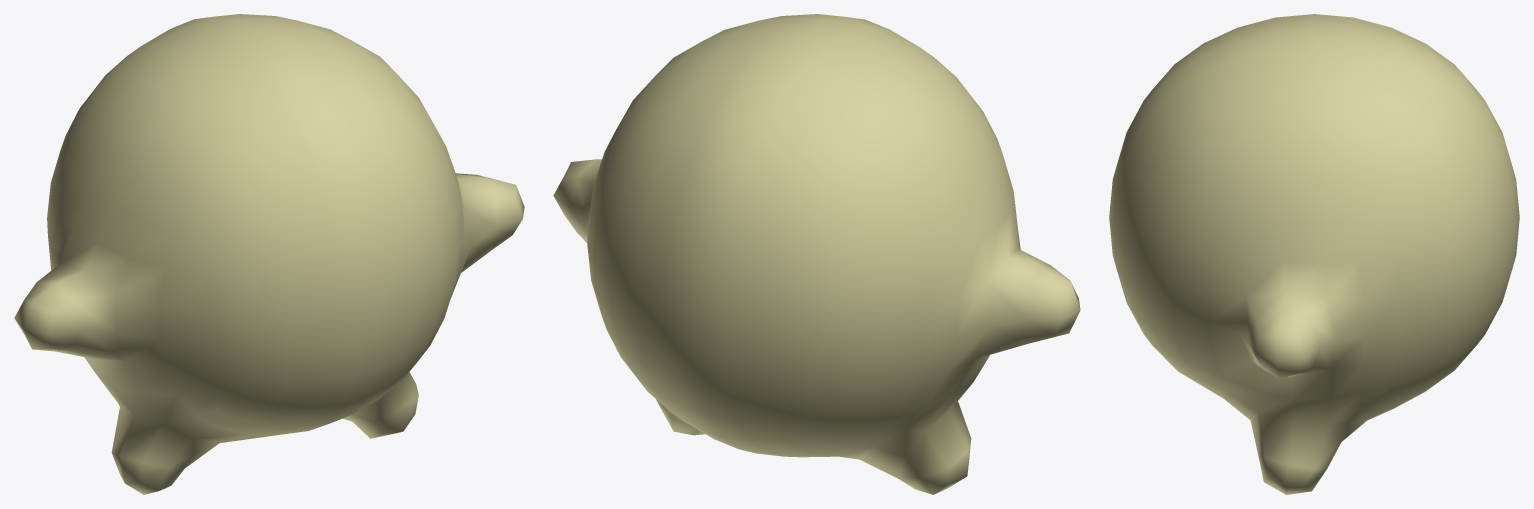
Rendered from guy.fbx.
The picture shows the model from 3 angles, left to right: view 1: azimuth 30°, elevation 25°; view 2: azimuth 150°, elevation 25°; view 3: azimuth 270°, elevation 25°; orthographic projection. The views are drawn at different scales.
Visible parts, largest first — view 1: pCube1; view 2: pCube1; view 3: pCube1.
Boxes of the visible parts, x1,y1,x2,y2 form: pCube1: (14,14,524,494); pCube1: (553,14,1080,494); pCube1: (1109,14,1519,494).
Size of the model in its own units: 1.15 by 0.9252 by 0.8492.
